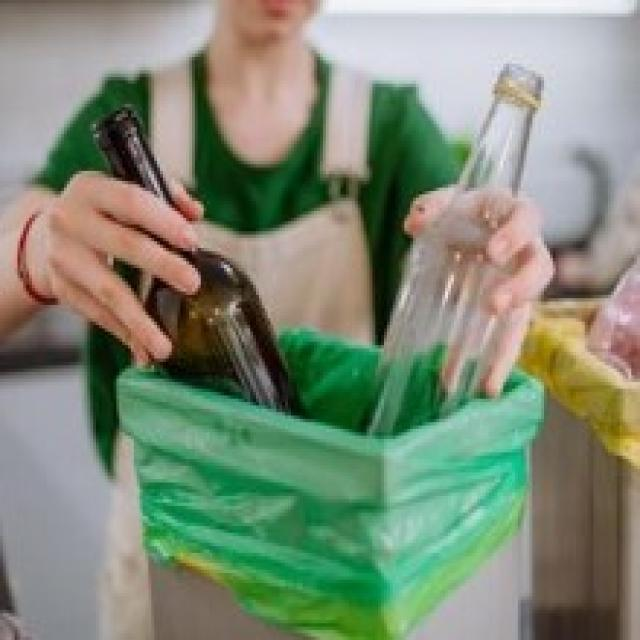electronic: (365, 64, 548, 453), (97, 99, 311, 431)
